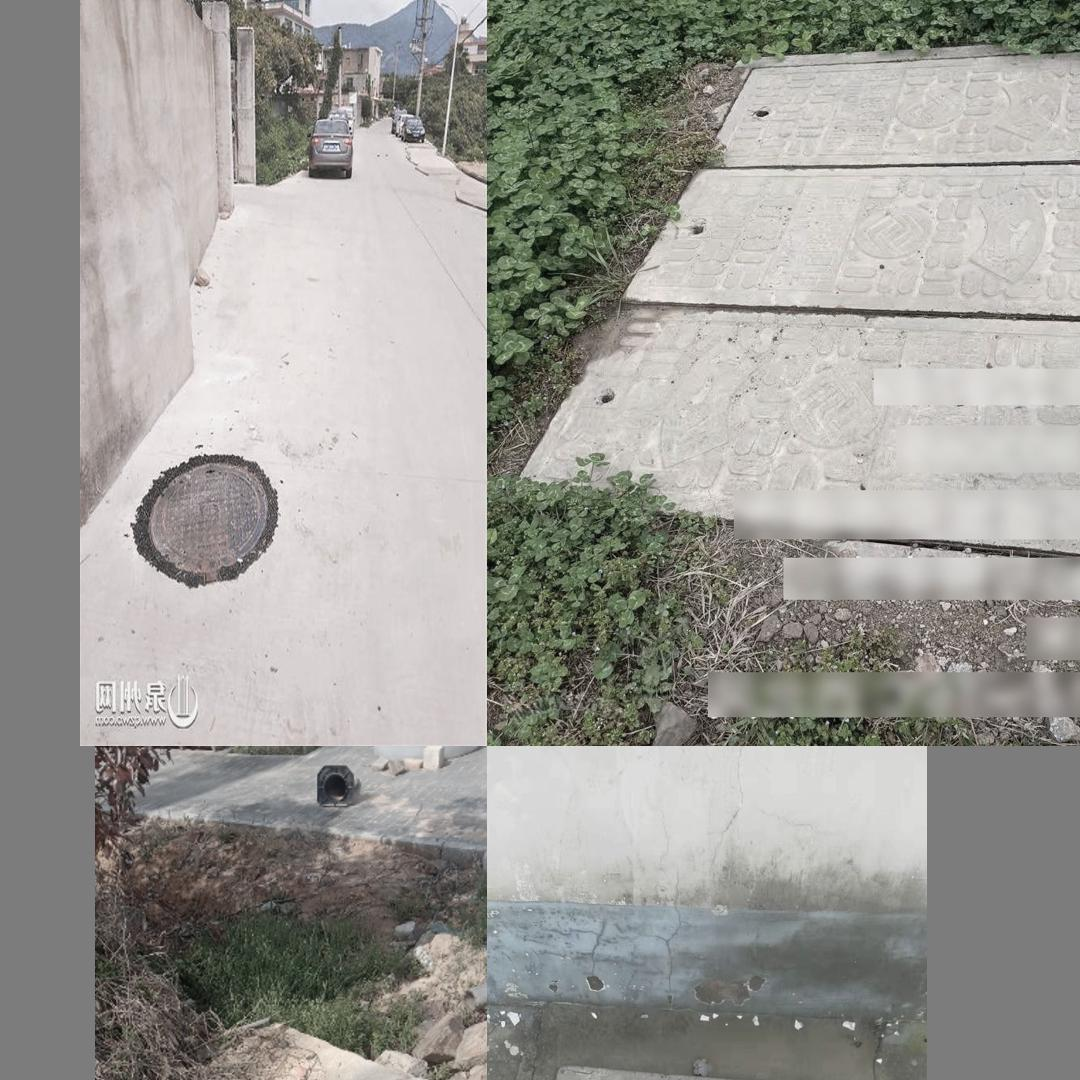good: (513, 31, 1080, 613), (113, 434, 298, 601), (503, 1061, 873, 1080)
